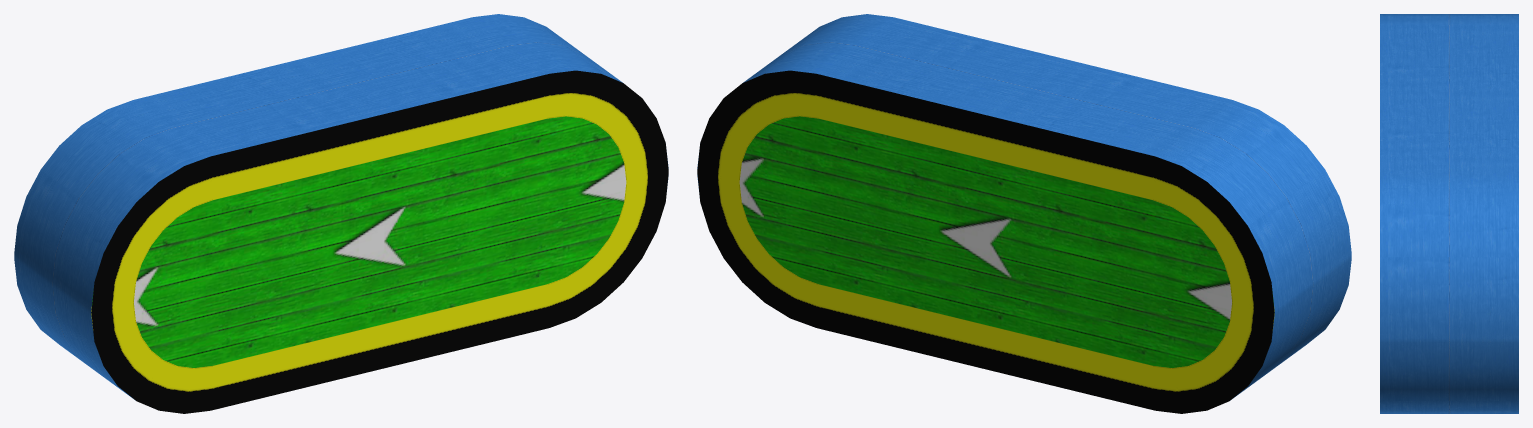
File: arrow_box.FBX
The picture shows the model from 3 angles, left to right: view 1: azimuth 30°, elevation 25°; view 2: azimuth 150°, elevation 25°; view 3: azimuth 270°, elevation 25°; orthographic projection. The views are drawn at different scales.
Visible parts, largest first — view 1: arrow_box001; view 2: arrow_box001; view 3: arrow_box001.
Part boxes in pixels (x1,y1,x2,y2): arrow_box001: (14, 14, 668, 413); arrow_box001: (697, 14, 1351, 413); arrow_box001: (1380, 14, 1518, 413).
Bounding box in the file's own units: 86.34 × 36.34 × 20.
Materials: 3 (3 with a texture image).
